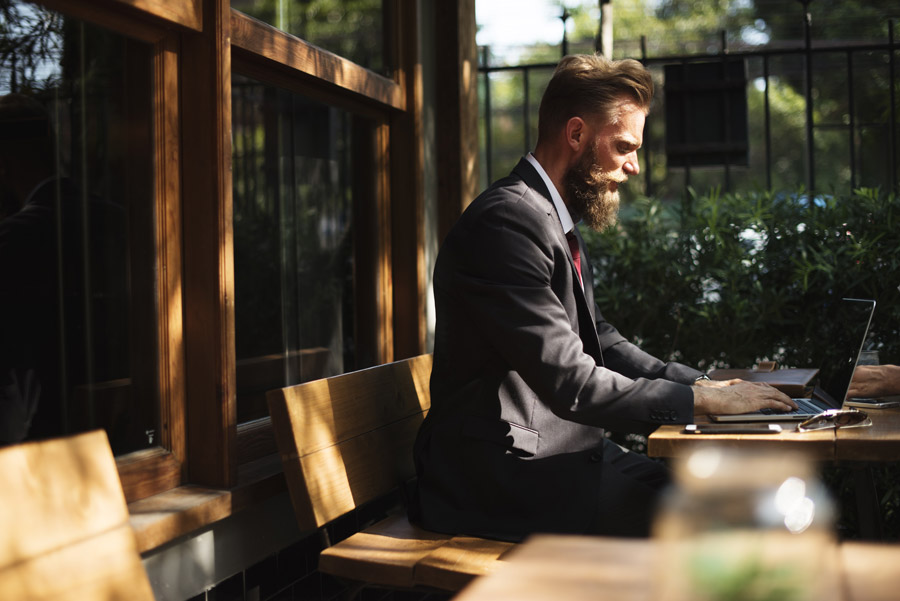male: (408, 50, 801, 542)
